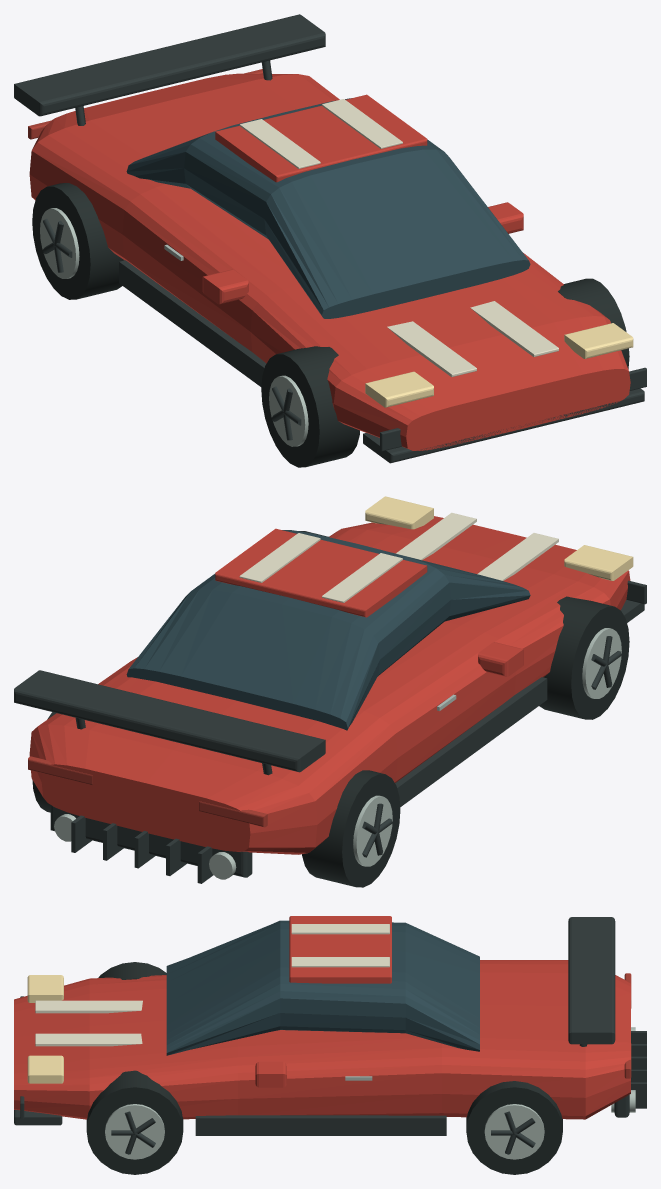
File: sports-car.glb
3 renders of one model, top to bottom at view 1: azimuth 30°, elevation 25°; view 2: azimuth 150°, elevation 25°; view 3: azimuth 270°, elevation 25°, orthographic. The views are drawn at different scales.
Visible parts, largest first — view 1: body_red, canopy_glass, wheels_rubber, rear_wing_dark, roof_red, racing_stripes_cream, side_skirts_dark, headlights_lamp, wheels_chrome, front_splitter_dark, mirrors_red, wheels_dark (+1 smaller); view 2: body_red, canopy_glass, rear_wing_dark, wheels_rubber, roof_red, racing_stripes_cream, side_skirts_dark, headlights_lamp, wheels_chrome, diffuser_fins_dark, diffuser_dark, tail_lights_tail (+3 smaller); view 3: body_red, canopy_glass, wheels_rubber, rear_wing_dark, side_skirts_dark, racing_stripes_cream, roof_red, wheels_chrome, headlights_lamp, wheels_dark, diffuser_fins_dark, mirrors_red (+1 smaller).
Part boxes in pixels (box(x1,y1,x2,y2)): body_red: box(29, 73, 630, 450); canopy_glass: box(126, 98, 530, 318); wheels_rubber: box(32, 183, 629, 467); rear_wing_dark: box(14, 14, 325, 116); roof_red: box(215, 94, 427, 182); racing_stripes_cream: box(239, 99, 558, 377); side_skirts_dark: box(119, 260, 266, 386); headlights_lamp: box(365, 323, 633, 407); wheels_chrome: box(40, 208, 308, 446); front_splitter_dark: box(363, 388, 644, 463); mirrors_red: box(202, 202, 523, 304); wheels_dark: box(42, 218, 301, 440); body_red: box(29, 516, 630, 854); canopy_glass: box(126, 530, 530, 730); rear_wing_dark: box(14, 670, 325, 772); wheels_rubber: box(32, 531, 629, 887); roof_red: box(215, 528, 427, 617); racing_stripes_cream: box(239, 512, 558, 602); side_skirts_dark: box(395, 677, 547, 806); headlights_lamp: box(365, 496, 633, 580); wheels_chrome: box(353, 628, 621, 866); diffuser_fins_dark: box(71, 815, 213, 883); diffuser_dark: box(50, 805, 252, 877); tail_lights_tail: box(28, 756, 267, 827); body_red: box(14, 960, 630, 1119); canopy_glass: box(166, 920, 479, 1055); wheels_rubber: box(86, 962, 562, 1174); rear_wing_dark: box(568, 917, 615, 1044); side_skirts_dark: box(195, 1115, 446, 1135); racing_stripes_cream: box(35, 924, 389, 1046); roof_red: box(289, 916, 391, 983); wheels_chrome: box(105, 1104, 544, 1159); headlights_lamp: box(27, 975, 63, 1083); wheels_dark: box(111, 1111, 535, 1154); diffuser_fins_dark: box(631, 1031, 646, 1108); mirrors_red: box(255, 1061, 286, 1087).
Size of the model in its own units: 1.18 by 0.7002 by 2.4.
